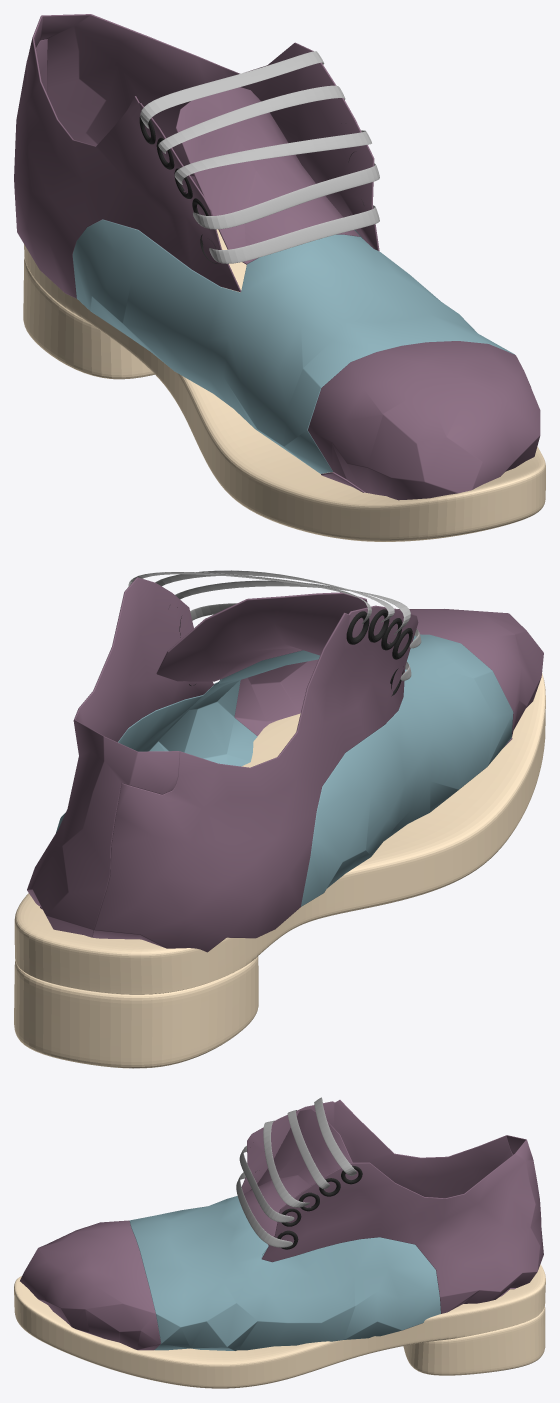
File: za1ve3izquierda.fbx
3 views of the same model, one above another, from view 1: azimuth 30°, elevation 25°; view 2: azimuth 150°, elevation 25°; view 3: azimuth 270°, elevation 25° (orthographic). The views are drawn at different scales.
Parts seen in each view (by area): view 1: ZAPATO1_3, Plane, Plane.002, Plane.004, Plane.005, Plane.001, Plane.003; view 2: ZAPATO1_3, Plane, Plane.001, Plane.003, Plane.004; view 3: ZAPATO1_3, Plane, Plane.001, Plane.004, Plane.003, Plane.005, Plane.002.
Part boxes in pixels (x1,y1,x2,y2): ZAPATO1_3: (14, 14, 540, 500); Plane: (23, 229, 545, 541); Plane.002: (193, 163, 379, 229); Plane.004: (140, 51, 324, 128); Plane.005: (209, 205, 379, 263); Plane.001: (174, 130, 371, 184); Plane.003: (158, 85, 345, 153); ZAPATO1_3: (27, 577, 543, 952); Plane: (14, 673, 545, 1068); Plane.001: (175, 580, 410, 634); Plane.003: (155, 570, 394, 622); Plane.004: (128, 572, 371, 624); ZAPATO1_3: (20, 1100, 543, 1350); Plane: (14, 1264, 545, 1388); Plane.001: (263, 1120, 309, 1207); Plane.004: (314, 1097, 356, 1175); Plane.003: (287, 1110, 329, 1189); Plane.005: (236, 1172, 292, 1247); Plane.002: (239, 1145, 294, 1222).
Bounding box in the file's own units: 174 × 204 × 447.
